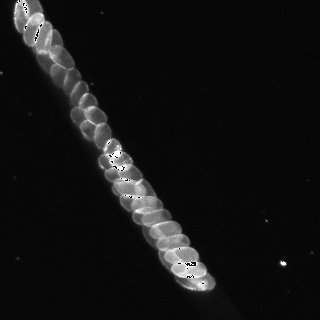embryo: (24, 12, 45, 46), (49, 44, 76, 70), (34, 21, 53, 55), (113, 178, 145, 197), (130, 196, 163, 214), (38, 49, 60, 75), (171, 262, 206, 278), (149, 221, 181, 238), (165, 247, 198, 263), (156, 234, 189, 250), (70, 106, 94, 128), (13, 0, 29, 33), (108, 149, 133, 170), (141, 209, 171, 226), (71, 81, 89, 108), (94, 123, 112, 149), (64, 68, 80, 96), (50, 64, 68, 88), (47, 29, 63, 55), (84, 106, 107, 124), (103, 138, 122, 158), (78, 93, 98, 112), (120, 165, 142, 181), (80, 120, 95, 141)
